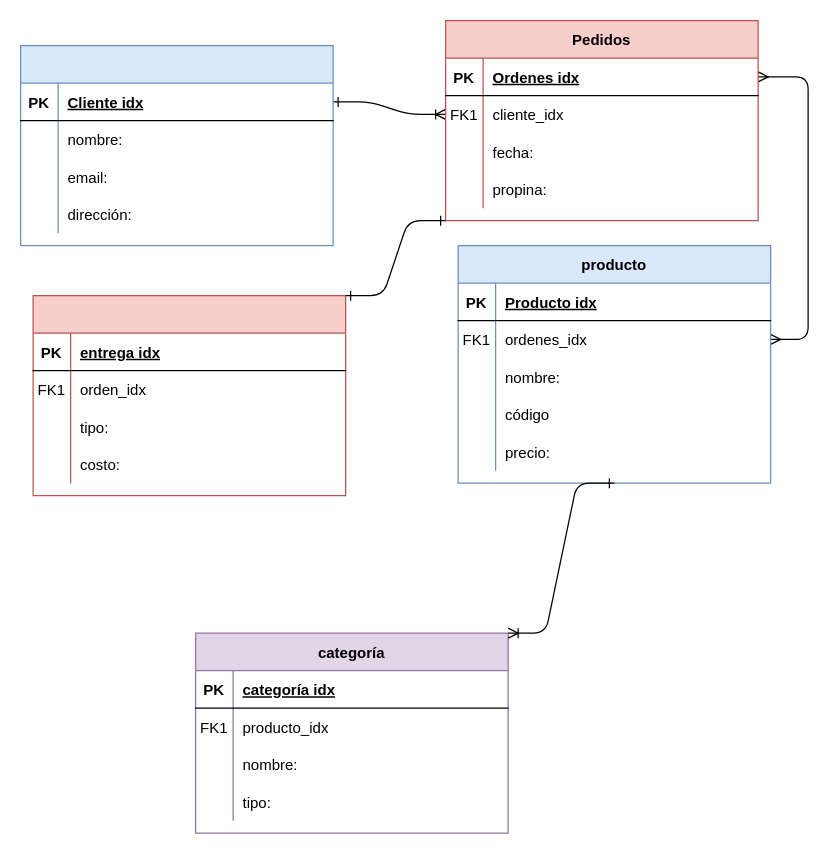
The diagram is 829 pixels wide and 854 high, and some of its shapes have lost their labels. Each missing label, with the box of its shape:
Clientes: (19, 44, 333, 246)
entregas: (32, 294, 346, 496)
